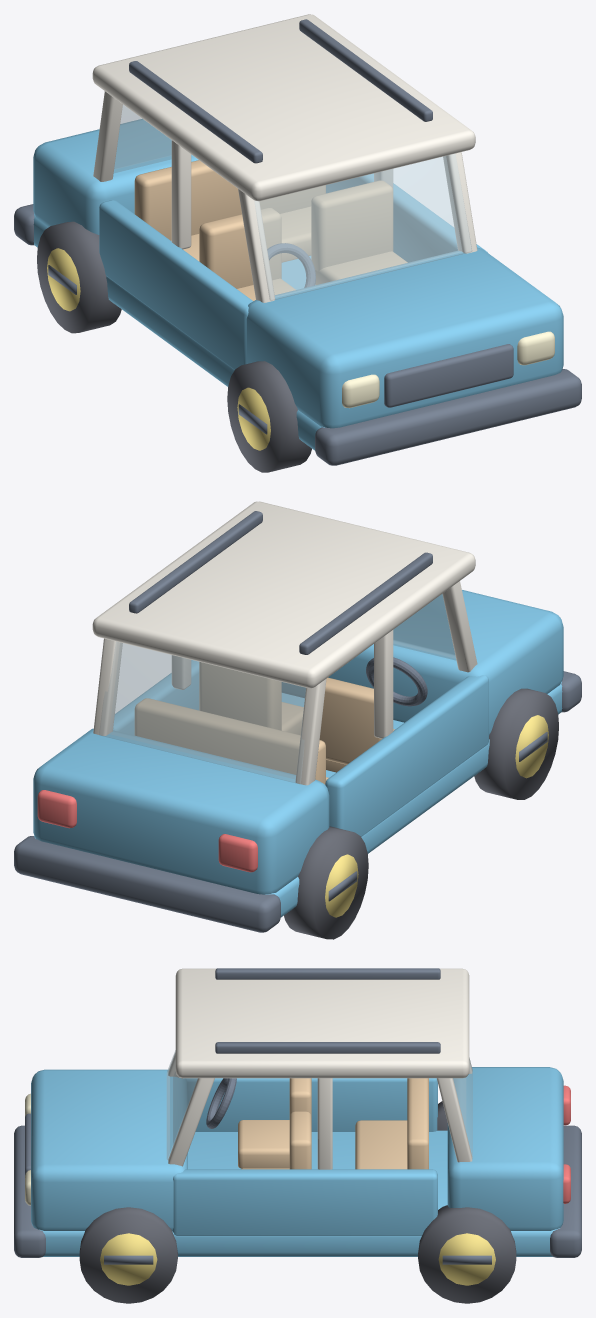
File: destiny_car.glb
3 views of the same model, one above another, from view 1: azimuth 30°, elevation 25°; view 2: azimuth 150°, elevation 25°; view 3: azimuth 270°, elevation 25° (orthographic). The views are drawn at different scales.
Parts seen in each view (by area): view 1: RoofTop, FrontHood, WindshieldFront, DoorPanel_R, FrontBumper, RearTrunk, Wheel_RR, Wheel_FR, SeatFrontPass_Back, SeatRearBench_Back, FrontGrille, ChassisFloor (+15 smaller); view 2: RoofTop, RearTrunk, WindshieldRear, FrontHood, DoorPanel_R, RearBumper, SeatRearBench_Back, Wheel_RR, Wheel_FR, SeatFrontPass_Back, ChassisFloor, SeatDriver_Back (+14 smaller); view 3: RoofTop, FrontHood, DoorPanel_L, RearTrunk, ChassisFloor, DoorPanel_R, Wheel_RL, Wheel_FL, RoofRack_L, RoofRack_R, SeatRearBench_Base, RearBumper (+11 smaller).
Boxes of the visible parts, box(x1,y1,x2,y2) form: RoofTop: box(92, 14, 475, 201); FrontHood: box(246, 247, 563, 428); WindshieldFront: box(254, 154, 472, 300); DoorPanel_R: box(99, 200, 252, 369); FrontBumper: box(315, 369, 581, 465); RearTrunk: box(33, 119, 198, 234); Wheel_RR: box(37, 221, 121, 333); Wheel_FR: box(227, 361, 311, 472); SeatFrontPass_Back: box(311, 180, 393, 271); SeatRearBench_Back: box(134, 160, 325, 240); FrontGrille: box(384, 344, 513, 407); ChassisFloor: box(33, 214, 324, 450); RoofTop: box(92, 501, 475, 688); RearTrunk: box(33, 728, 329, 894); WindshieldRear: box(99, 642, 305, 783); FrontHood: box(281, 590, 563, 735); DoorPanel_R: box(325, 675, 488, 836); RearBumper: box(14, 836, 280, 932); SeatRearBench_Back: box(134, 698, 325, 784); Wheel_RR: box(284, 826, 368, 939); Wheel_FR: box(474, 688, 558, 799); SeatFrontPass_Back: box(199, 662, 281, 730); ChassisFloor: box(34, 681, 562, 917); SeatDriver_Back: box(319, 677, 381, 764); RoofTop: box(175, 968, 469, 1078); FrontHood: box(31, 1069, 187, 1230); DoorPanel_L: box(172, 1169, 437, 1235); RearTrunk: box(447, 1067, 563, 1230); ChassisFloor: box(39, 1130, 559, 1256); DoorPanel_R: box(186, 1078, 437, 1131); Wheel_RL: box(418, 1205, 516, 1303); Wheel_FL: box(79, 1207, 177, 1303); RoofRack_L: box(215, 1042, 440, 1053); RoofRack_R: box(215, 968, 440, 979); SeatRearBench_Base: box(355, 1120, 407, 1169); RearBumper: box(550, 1125, 581, 1257).
Size of the model in its own units: 2.12 by 1.92 by 4.16.
